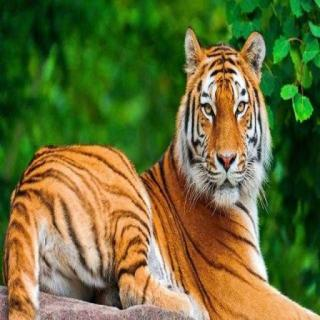Tiger: (0, 11, 317, 320)
